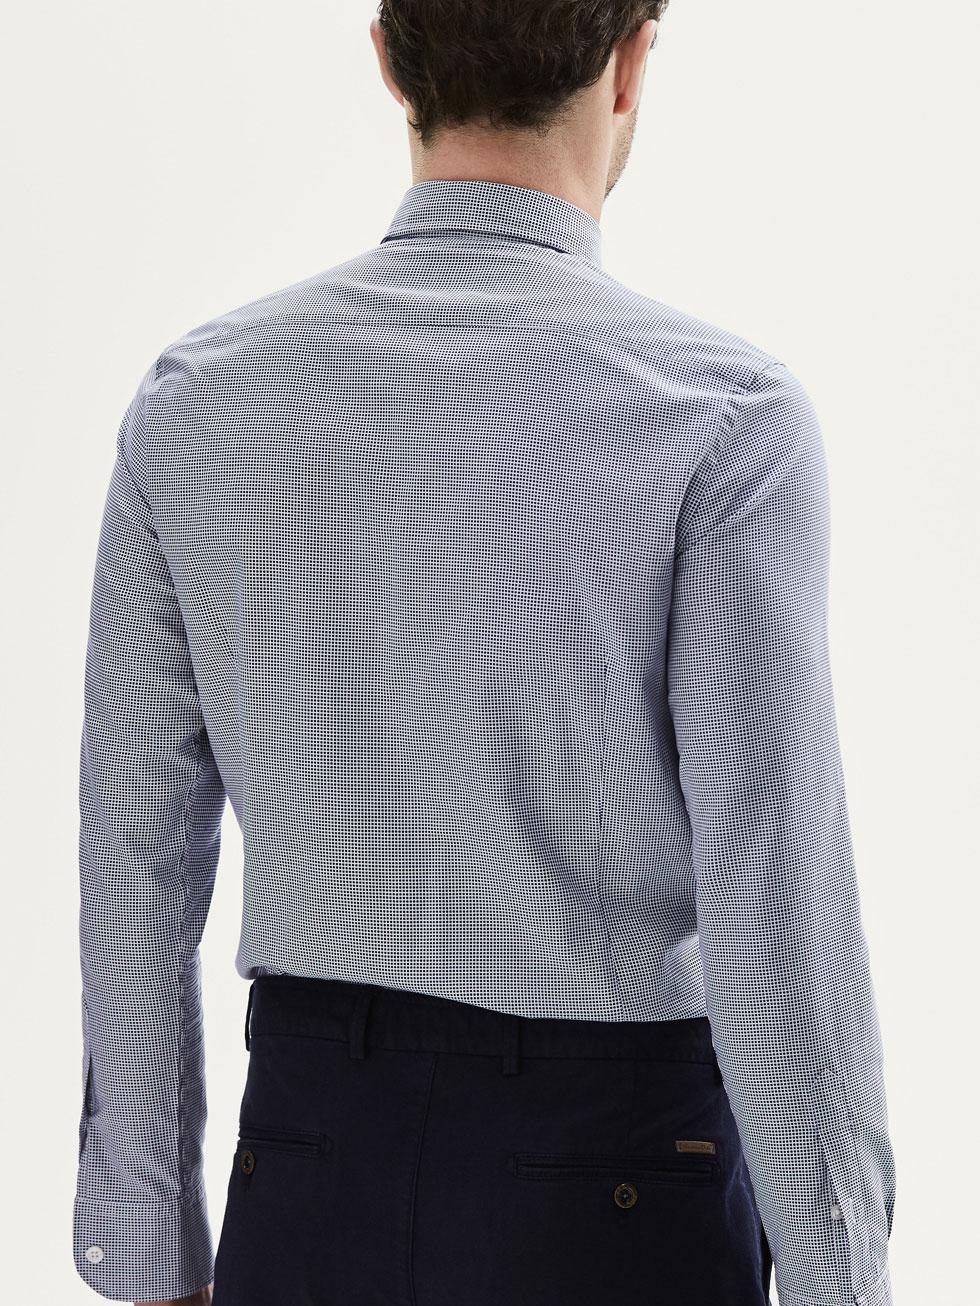teeshirt: (57, 179, 911, 1239)
